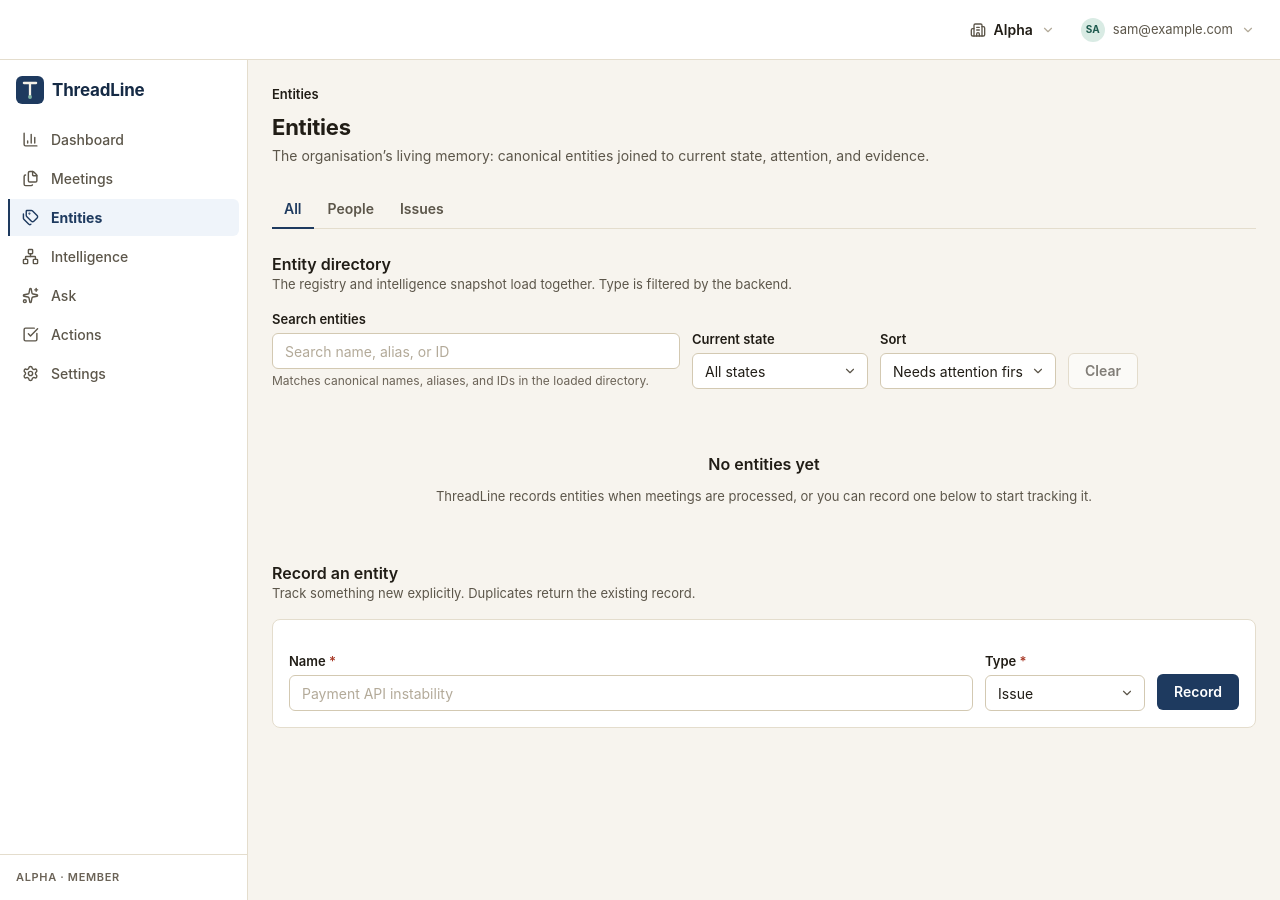
Test case: entity directory › records an entity and refreshes the tenant directory
This screenshot has width=1280, height=900.
Expected: the heading "No entities yet" is shown, [708, 453, 820, 475]
In the field labelled "Name *": (631,693) [289, 675, 973, 711], type "Checkout Recovery"
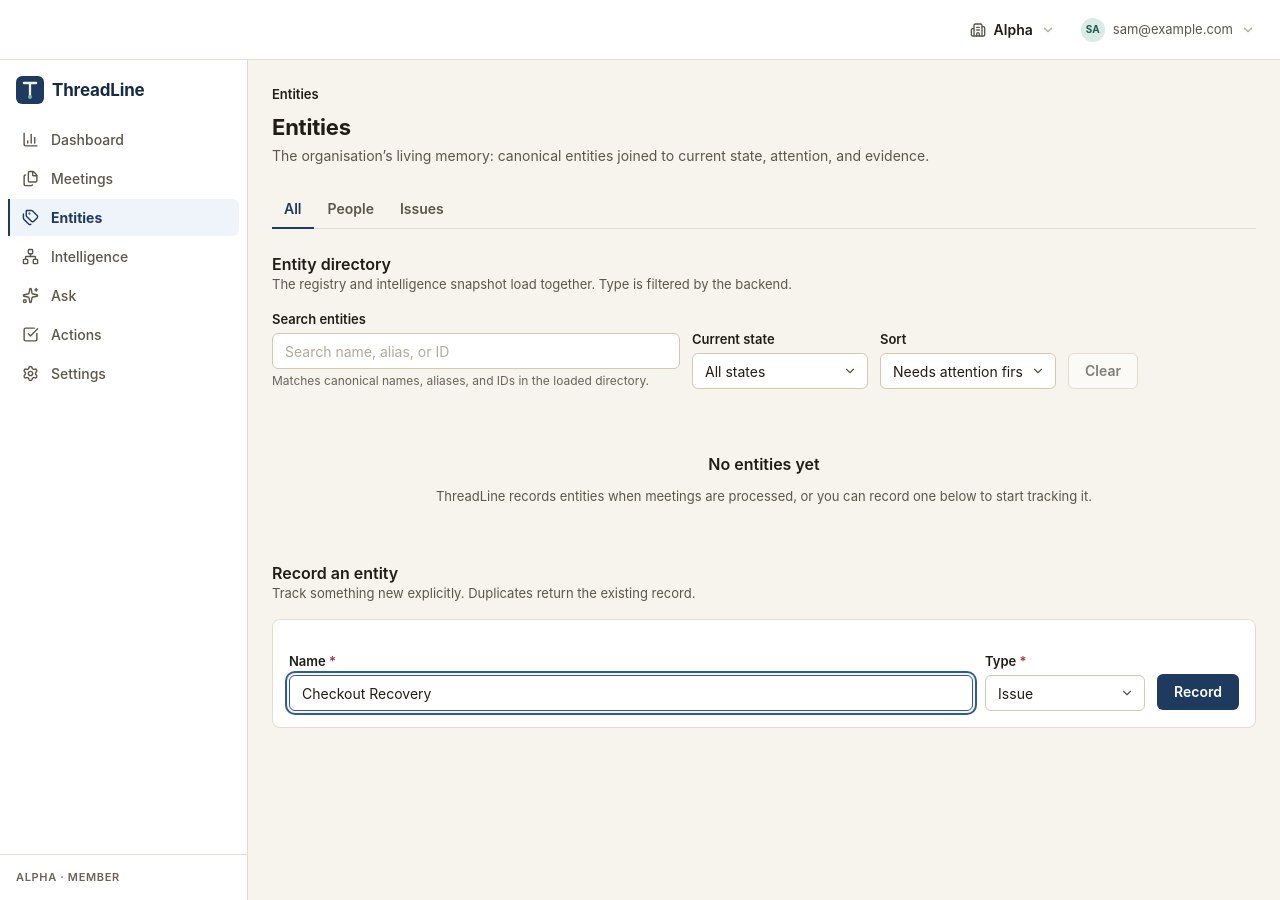
Select "Issue" in the dropdown labelled "Type *": (1065,693) [985, 675, 1145, 711]
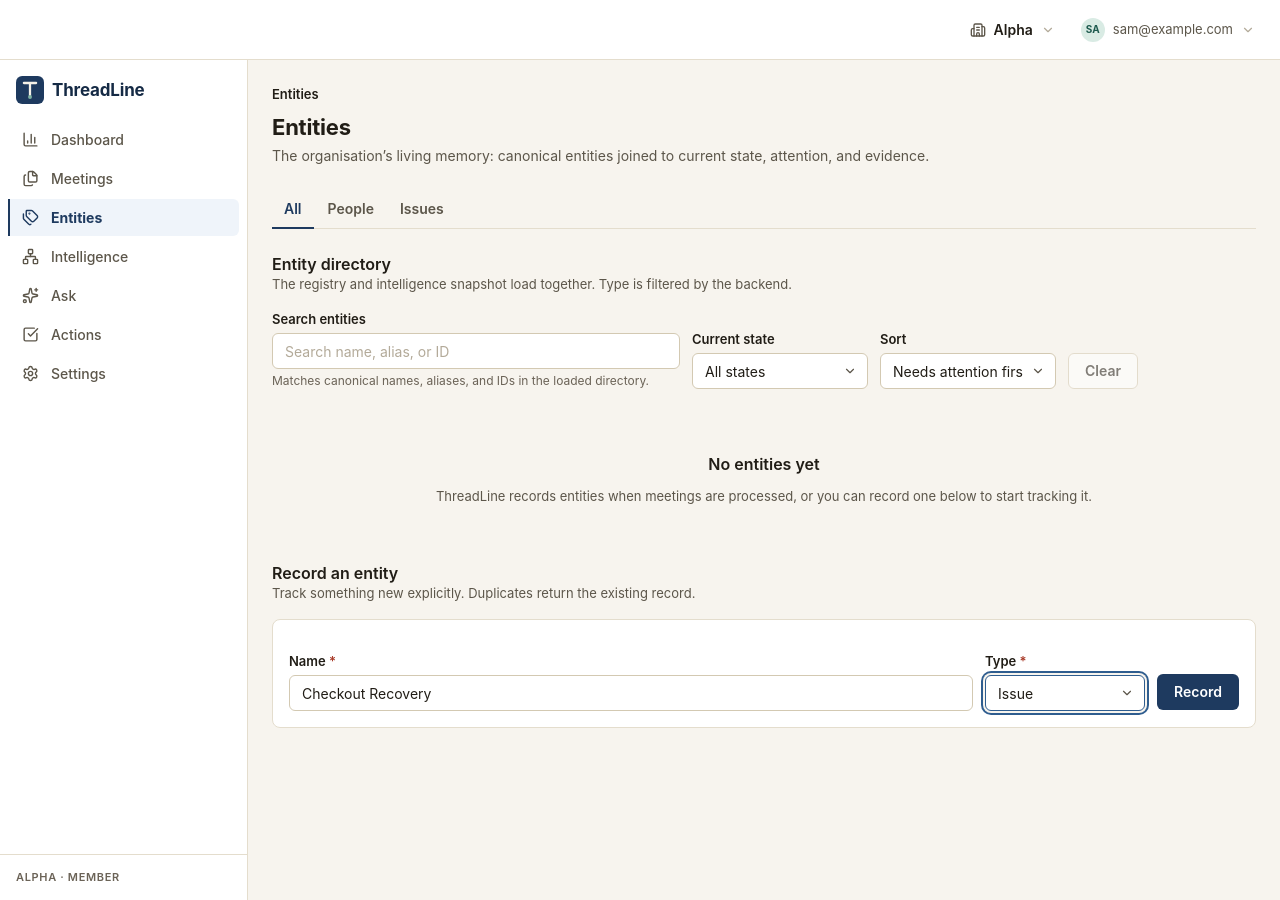
Click the button "Record": (1198,692) [1157, 674, 1239, 710]
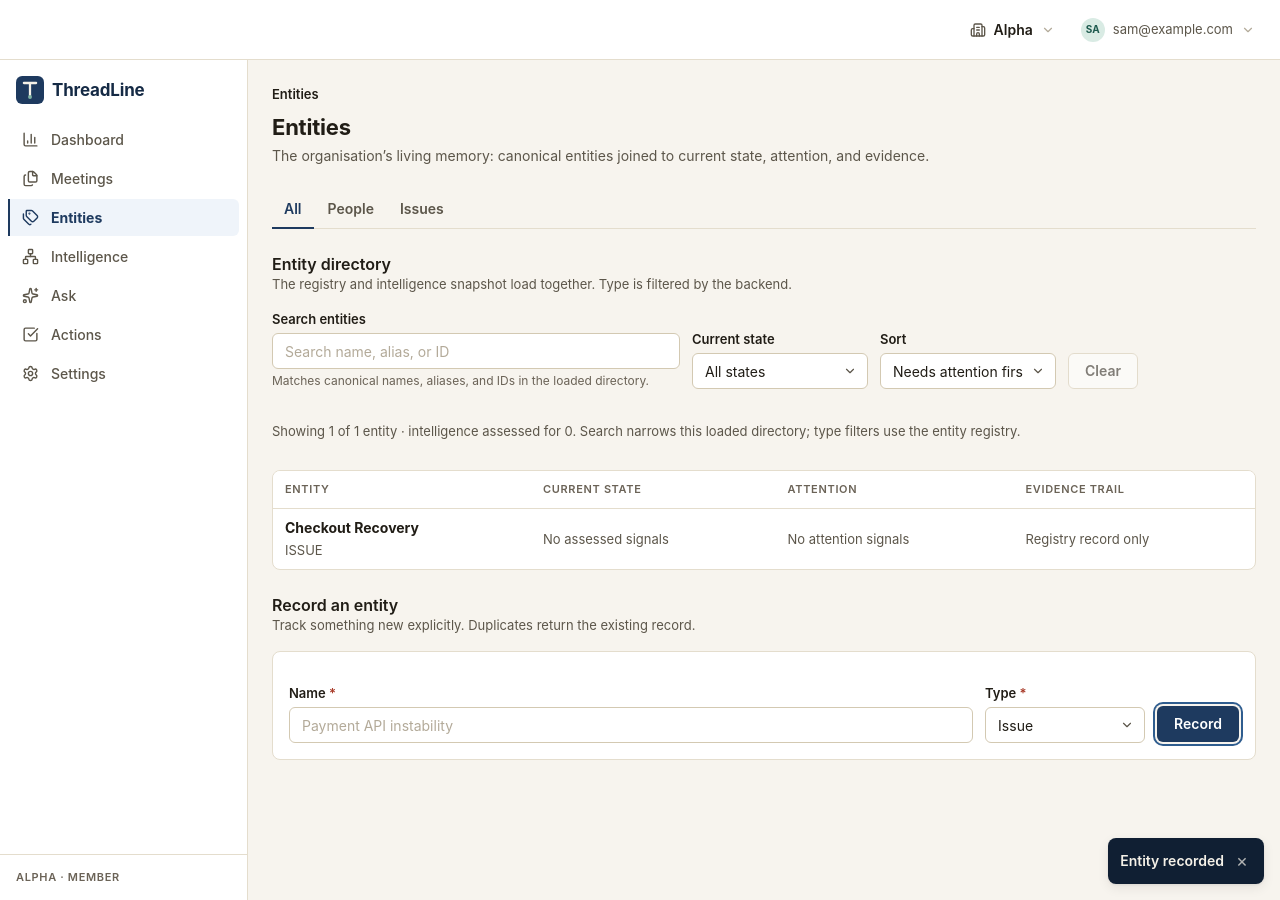
Expected: the form named "record entity" is shown, [289, 684, 1239, 743]
Expected: the link "Checkout Recovery" is shown, [285, 517, 419, 538]
